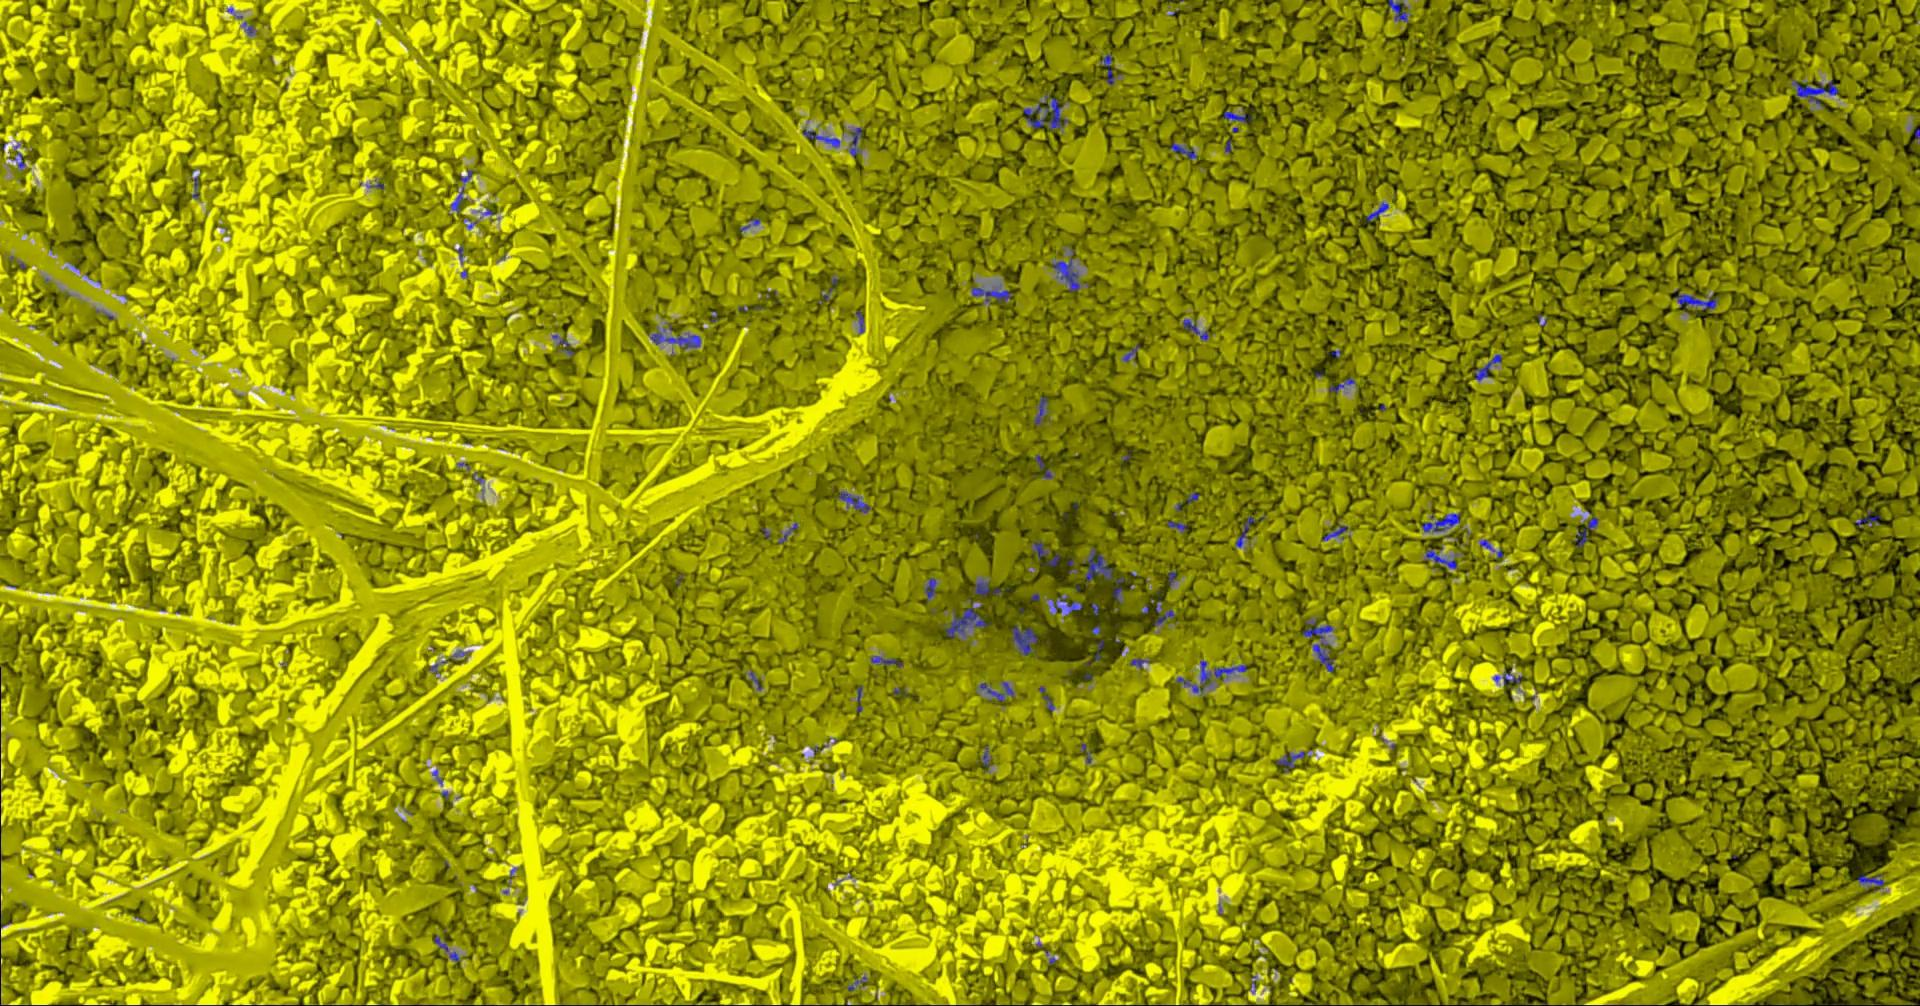ant: (1177, 661, 1250, 694), (1025, 93, 1070, 130), (1304, 619, 1335, 672), (943, 603, 990, 636), (1793, 79, 1840, 105), (1053, 249, 1081, 291), (1086, 547, 1114, 586), (1674, 290, 1719, 311), (649, 332, 702, 349), (1013, 624, 1039, 655), (803, 128, 841, 147), (1476, 354, 1503, 380), (973, 285, 1012, 302), (1578, 516, 1600, 547), (1423, 513, 1462, 531), (838, 492, 871, 512), (1426, 547, 1459, 568), (982, 681, 1015, 701), (1237, 514, 1256, 547), (1051, 594, 1084, 614), (1277, 751, 1305, 772), (1183, 319, 1209, 340), (1390, 0, 1413, 23), (1101, 53, 1117, 84), (1858, 873, 1886, 890), (1495, 671, 1524, 687), (1368, 201, 1390, 221), (554, 334, 575, 354), (1481, 539, 1503, 558), (1330, 377, 1357, 392), (975, 579, 1003, 594), (452, 185, 469, 211), (778, 522, 799, 542), (1171, 142, 1197, 158), (1040, 685, 1055, 711), (1037, 453, 1054, 478), (1035, 396, 1049, 424), (851, 127, 863, 156), (1857, 511, 1881, 526), (1324, 525, 1349, 540), (872, 655, 904, 667), (1156, 608, 1177, 625), (1114, 575, 1126, 603), (1225, 111, 1253, 122), (1123, 344, 1142, 361), (926, 577, 938, 600), (15, 145, 27, 169), (742, 218, 761, 232), (1043, 553, 1062, 567), (1034, 541, 1049, 558), (983, 746, 993, 767), (1170, 520, 1189, 531), (857, 310, 866, 333)
